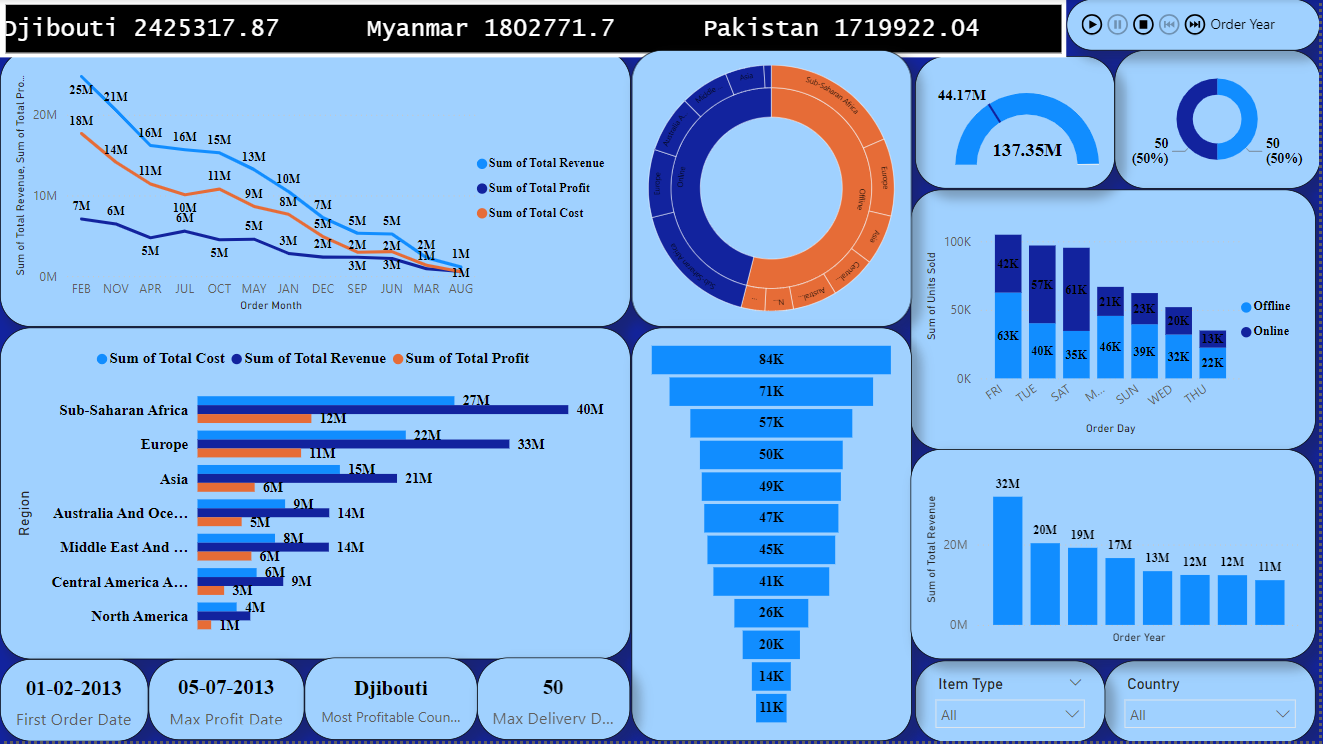

Layout of this report page (visuals, bound fields, positions):
{"tool":"powerbi","page":{"name":"Sales Report","canvas":[1280,720],"ordinal":9},"visuals":[{"type":"lineChart","fields":{"Category":["Amazon Sales data.Order Month"],"Y":["Sum(Amazon Sales data.Total Revenue)","Sum(Amazon Sales data.Total Profit)","Sum(Amazon Sales data.Total Cost)"]},"box":[0,50.2,612.1,268.8],"z":0},{"type":"clusteredBarChart","title":"Total Cost, Revenue and Profit by Region ","fields":{"Y":["Sum(Amazon Sales data.Total Cost)","Sum(Amazon Sales data.Total Revenue)","Sum(Amazon Sales data.Total Revenue)","Sum(Amazon Sales data.Total Profit)"],"Category":["Amazon Sales data.Region"]},"box":[0,319,612.1,322.2],"z":1000},{"type":"donutChart","fields":{"Category":["Amazon Sales data.Sales Channel"],"Y":["CountNonNull(Amazon Sales data.Sales Channel)"]},"box":[1081.1,50,199.9,134.8],"z":2000},{"type":"columnChart","title":"Sum of Units Sold each Day wrt Sales Channel","fields":{"Category":["Amazon Sales data.Order Day"],"Y":["Sum(Amazon Sales data.Units Sold)"],"Series":["Amazon Sales data.Sales Channel"]},"box":[884.1,184.6,393.5,252.6],"z":3000},{"type":"gauge","fields":{"Y":["Sum(Amazon Sales data.Total Revenue)"],"TargetValue":["Sum(Amazon Sales data.Total Profit)"],"MinValue":["Sum(Amazon Sales data.Days taken for shipping)"]},"box":[887.3,56,193.8,128.7],"z":4000},{"type":"slicer","fields":{"Values":["Amazon Sales data.Country"]},"box":[1071.9,641.2,205.6,79.3],"z":5000},{"type":"card","fields":{"Values":["Min(Amazon Sales data.Order Date)"]},"box":[0,640.5,143.8,80.3],"z":6000},{"type":"card","fields":{"Values":["Min(Amazon Sales data.Order Date)"]},"box":[143.8,640.5,151.4,78.7],"z":7000},{"type":"ScrollingTextVisual1448795304508","fields":{"Category":["Amazon Sales data.Country"],"Measure Absolute":["Sum(Amazon Sales data.Total Profit)"]},"box":[0,0,1034.7,56.7],"z":8000},{"type":"PBI_CV_16948668_E17D_454B_8664_2F2C470EA8C1","fields":{"category":["Amazon Sales data.Order Year"]},"box":[1034.7,0,246.1,50.2],"z":9000},{"type":"Sunburst1445472000808","fields":{"Nodes":["Amazon Sales data.Sales Channel","Amazon Sales data.Region"],"Values":["Sum(Amazon Sales data.Units Sold)"]},"box":[612.1,50.2,272,268.8],"z":10000},{"type":"slicer","fields":{"Values":["Amazon Sales data.Item Type"]},"box":[887.3,641.2,184.6,79.3],"z":11000},{"type":"funnel","fields":{"Category":["Amazon Sales data.Item Type"],"Y":["Sum(Amazon Sales data.Units Sold)"]},"box":[612.1,319,272,401.6],"z":12000},{"type":"columnChart","fields":{"Category":["Amazon Sales data.Order Year"],"Y":["Sum(Amazon Sales data.Total Revenue)"]},"box":[884.1,437.2,393.5,204],"z":13000},{"type":"card","fields":{"Values":["Min(Amazon Sales data.Country)"]},"box":[295.3,639,168.1,80.3],"z":14000},{"type":"card","fields":{"Values":["Max(Amazon Sales data.Days taken for shipping)"]},"box":[463.3,639,148.4,80.3],"z":15000}]}

Visuals, with their boxes in screenshot pixels (x1, y1, x2, y2), scaled from the page's 1280x720 canvas onto the 1323x744 screenshot:
lineChart - Amazon Sales data.Order Month x Sum(Amazon Sales data.Total Revenue): bbox=[0, 52, 633, 330]
"Total Cost, Revenue and Profit by Region " clusteredBarChart: bbox=[0, 330, 633, 663]
donutChart - Amazon Sales data.Sales Channel x CountNonNull(Amazon Sales data.Sales Channel): bbox=[1117, 52, 1322, 191]
"Sum of Units Sold each Day wrt Sales Channel" columnChart: bbox=[914, 191, 1321, 452]
gauge - Sum(Amazon Sales data.Total Revenue) x Sum(Amazon Sales data.Total Profit): bbox=[917, 58, 1117, 191]
slicer - Amazon Sales data.Country: bbox=[1108, 663, 1320, 743]
card - Min(Amazon Sales data.Order Date): bbox=[0, 662, 149, 743]
card - Min(Amazon Sales data.Order Date): bbox=[149, 662, 305, 743]
ScrollingTextVisual1448795304508 - Amazon Sales data.Country x Sum(Amazon Sales data.Total Profit): bbox=[0, 0, 1069, 59]
PBI_CV_16948668_E17D_454B_8664_2F2C470EA8C1 - Amazon Sales data.Order Year: bbox=[1069, 0, 1322, 52]
Sunburst1445472000808 - Amazon Sales data.Sales Channel x Amazon Sales data.Region: bbox=[633, 52, 914, 330]
slicer - Amazon Sales data.Item Type: bbox=[917, 663, 1108, 743]
funnel - Amazon Sales data.Item Type x Sum(Amazon Sales data.Units Sold): bbox=[633, 330, 914, 743]
columnChart - Amazon Sales data.Order Year x Sum(Amazon Sales data.Total Revenue): bbox=[914, 452, 1321, 663]
card - Min(Amazon Sales data.Country): bbox=[305, 660, 479, 743]
card - Max(Amazon Sales data.Days taken for shipping): bbox=[479, 660, 632, 743]
